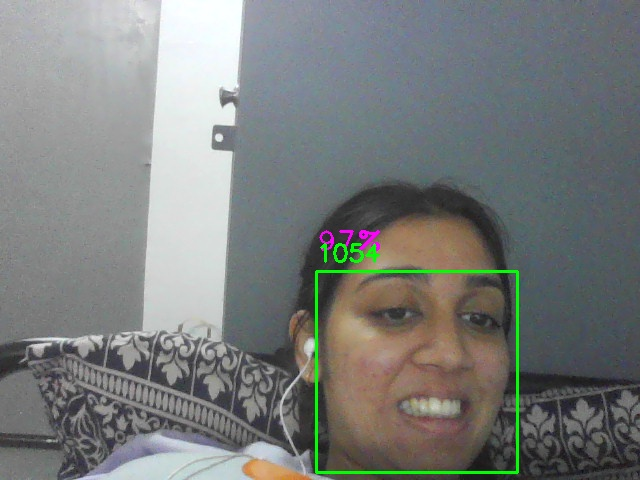real: (316, 271, 518, 473)
